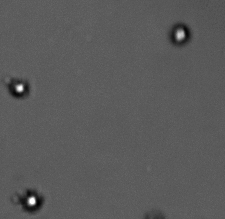Living Cell: (20, 188, 43, 211), (169, 22, 190, 45), (9, 77, 30, 97)
